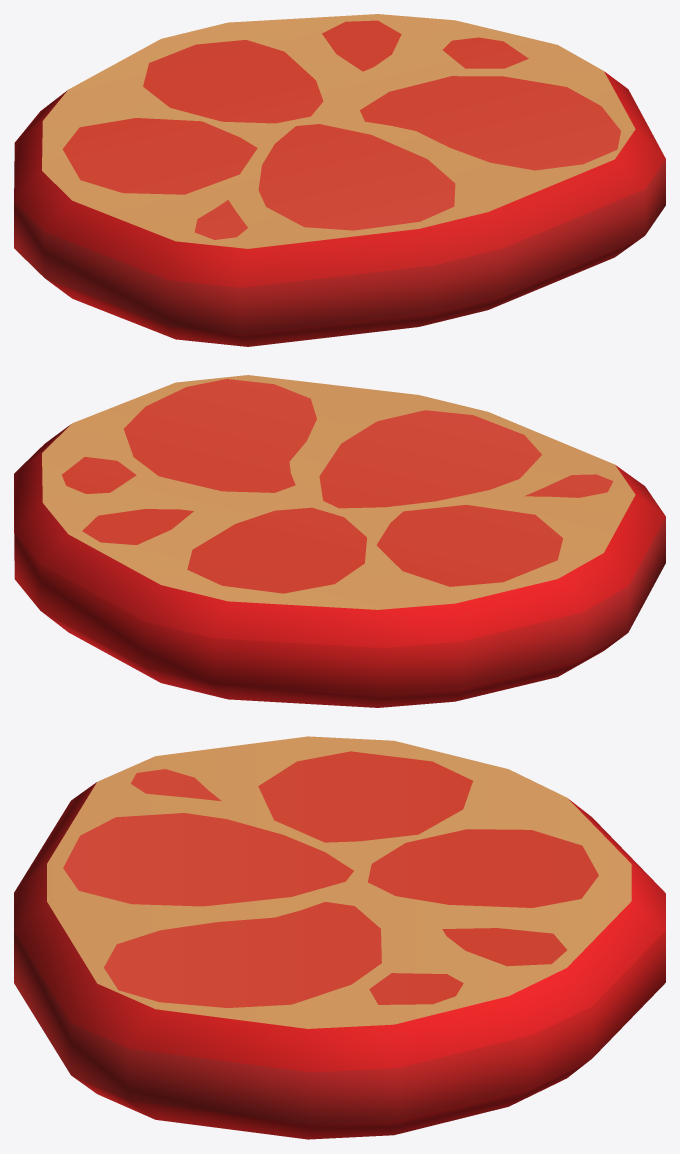
File: Steak_Ready.glb
3 views of the same model, one above another, from view 1: azimuth 30°, elevation 25°; view 2: azimuth 150°, elevation 25°; view 3: azimuth 270°, elevation 25° (orthographic). The views are drawn at different scales.
Parts seen in each view (by area): view 1: Steak_Ready; view 2: Steak_Ready; view 3: Steak_Ready.
Part boxes in pixels (bbox=[...]): Steak_Ready: bbox=[14, 14, 665, 346]; Steak_Ready: bbox=[14, 375, 665, 707]; Steak_Ready: bbox=[14, 736, 665, 1139].
Bounding box in the file's own units: 0.1672 × 0.0268 × 0.1434.
1 material, 1 textured.
